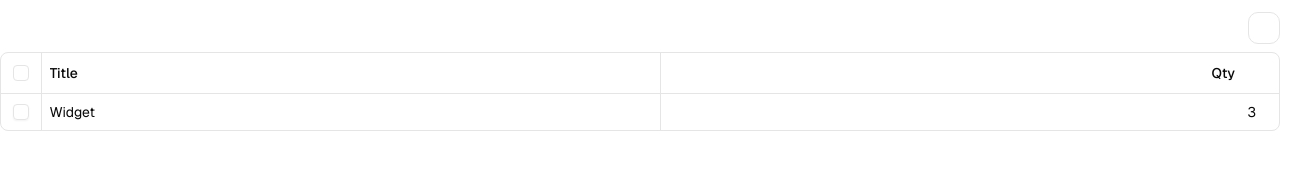
DataGrid › column validate hook › runs the built-in checks first, so the hook never sees an empty value
Click the 2nd cell: (351, 111) [41,93,660,130]
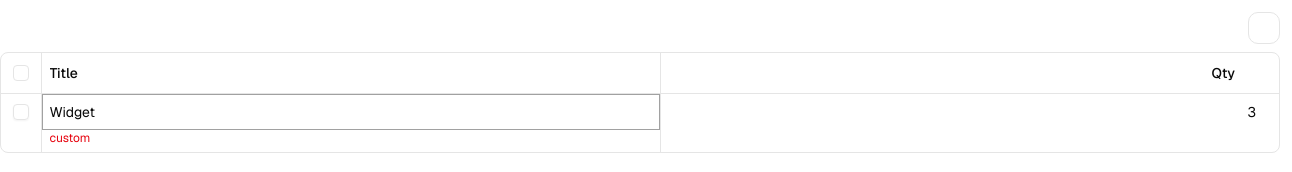
Clear the field: (351, 112) [42,94,660,130]
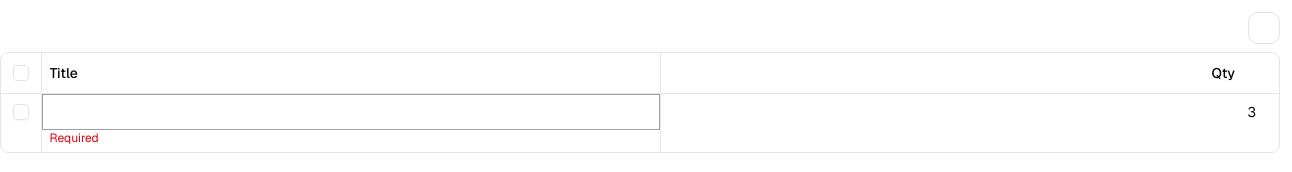
Now the text "Required" is shown, box [50,130,99,146]
